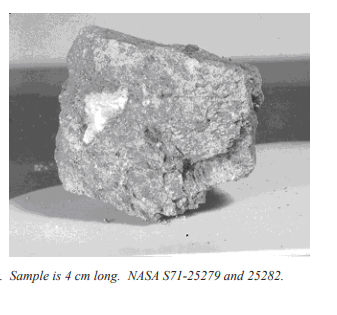Breccia: (33, 11, 309, 244)
